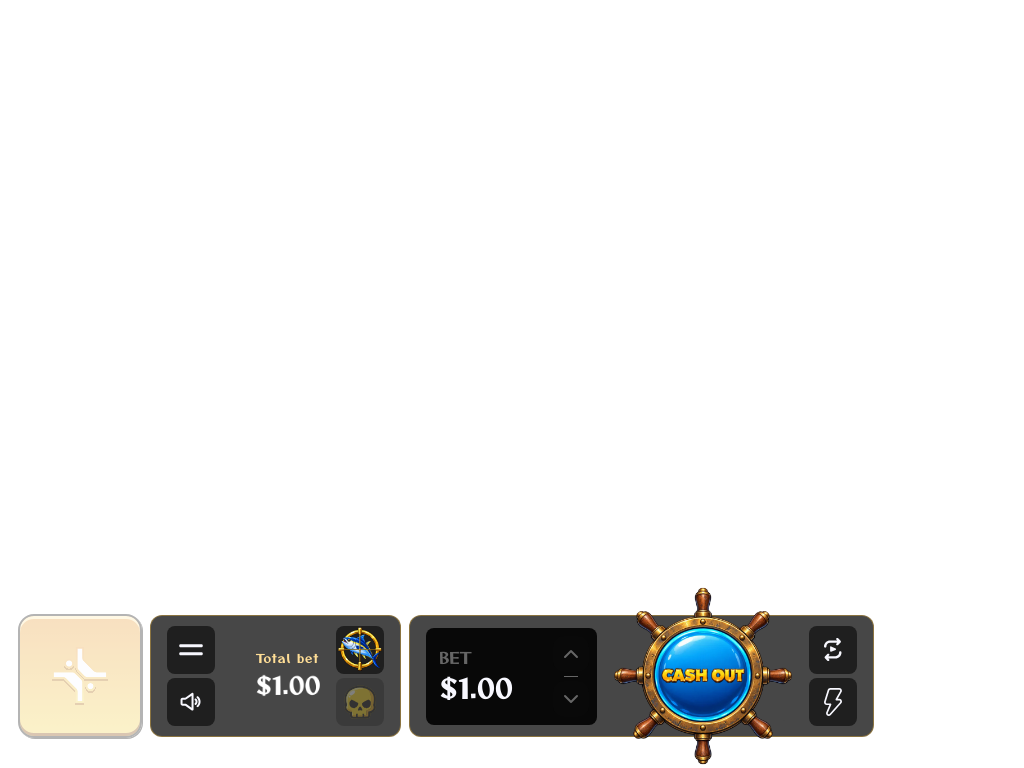
Test: opens the fish market from its button, even mid-cast, and closes it again
Click the button named "Fish market" at (360,650), box x1=336 y1=626 x2=384 y2=674
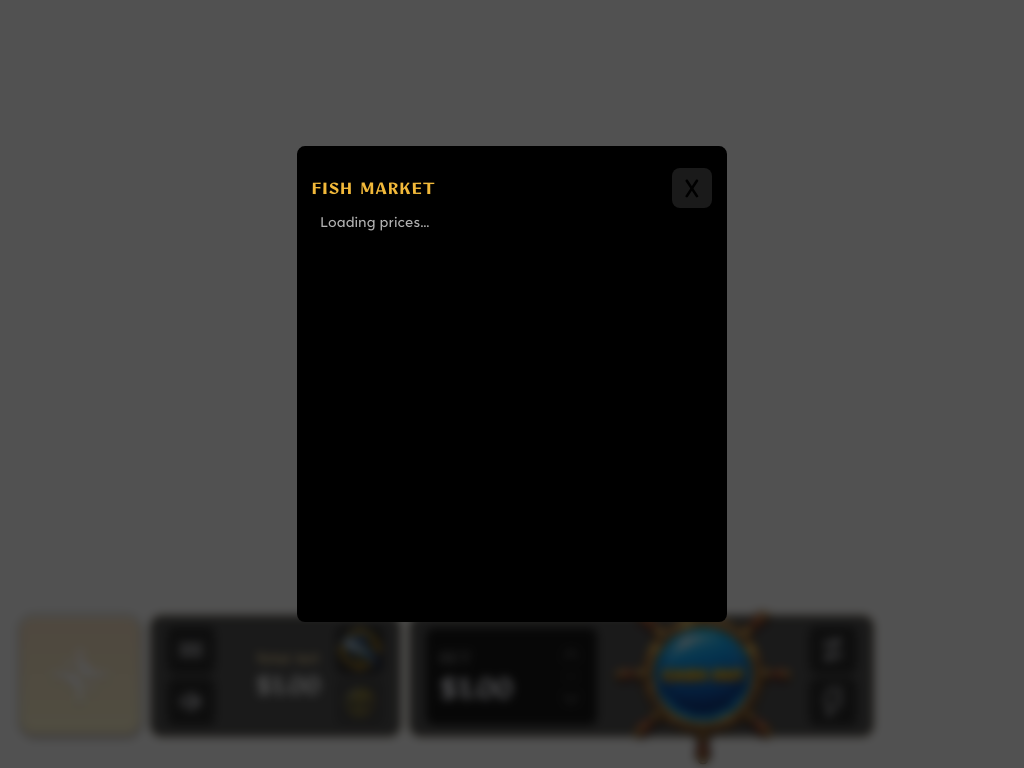
Check: the dialog "Fish market" is shown, box x1=302 y1=154 x2=722 y2=614
Press Escape
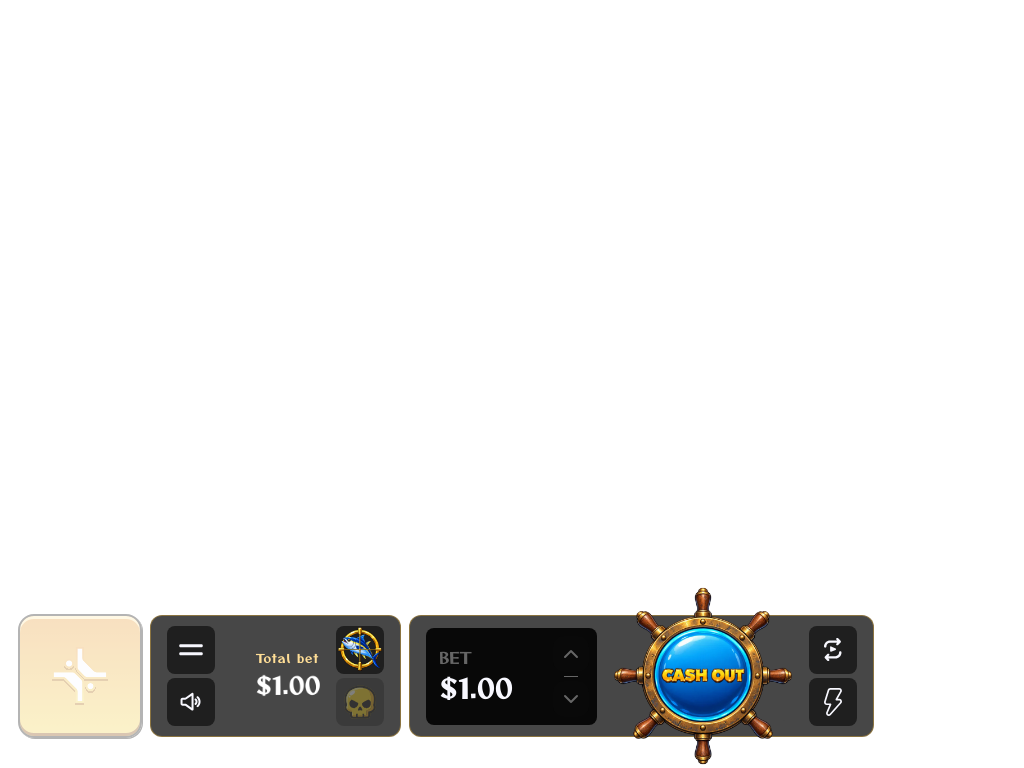
Check: the heading "Fish market" is gone
